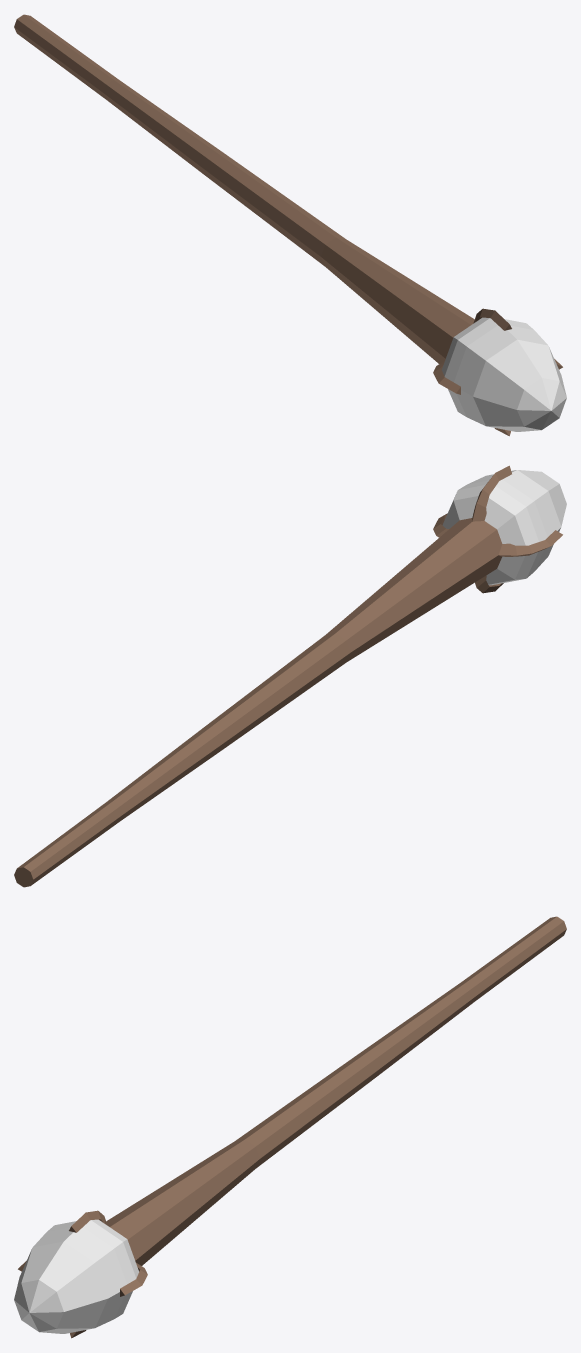
File: staff_orb.fbx
3 views of the same model, one above another, from view 1: azimuth 30°, elevation 25°; view 2: azimuth 150°, elevation 25°; view 3: azimuth 330°, elevation 25° (orthographic).
Visible parts, largest first — view 1: StaffOrb; view 2: StaffOrb; view 3: StaffOrb.
Boxes of the visible parts, <box> form: StaffOrb: <box>14,14,566,436</box>; StaffOrb: <box>14,465,566,887</box>; StaffOrb: <box>14,916,566,1338</box>.
Bounding box in the file's own units: 25.18 × 25.18 × 203.
